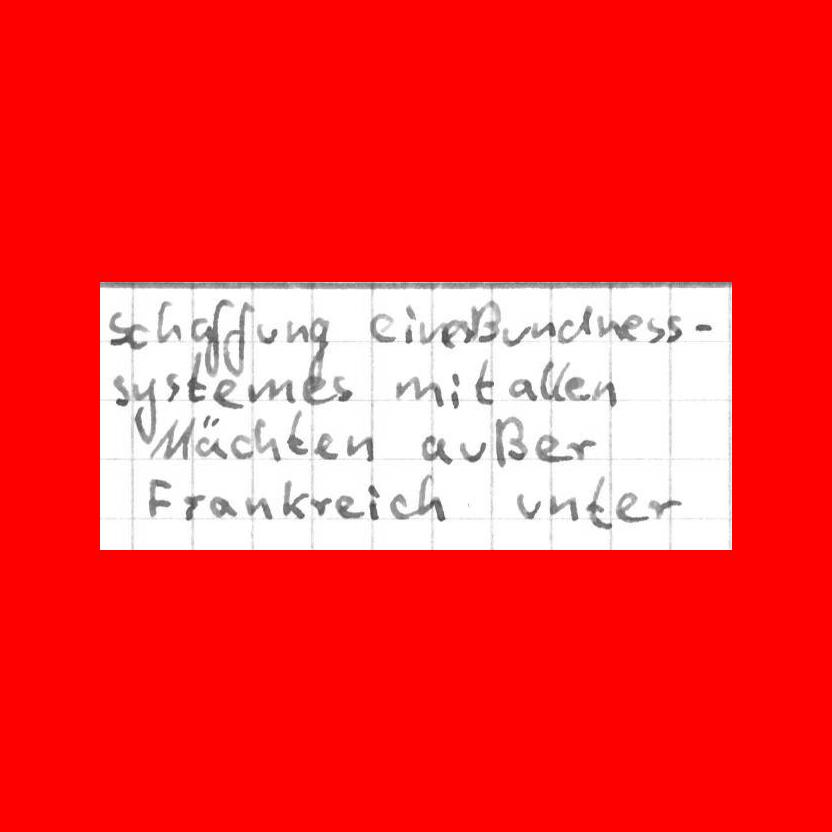Char: (223, 299, 252, 376), (148, 414, 195, 461), (492, 414, 529, 470), (130, 376, 159, 447), (391, 375, 445, 409), (306, 314, 332, 384), (556, 300, 595, 346), (204, 298, 226, 379), (193, 413, 227, 462), (585, 475, 614, 530), (469, 299, 502, 346), (154, 296, 186, 343), (415, 472, 445, 521), (246, 376, 296, 405), (252, 417, 283, 462), (473, 358, 499, 407), (146, 475, 174, 520), (279, 478, 309, 520), (187, 351, 209, 405), (548, 491, 582, 524), (615, 490, 648, 524), (534, 432, 568, 464), (285, 409, 308, 455), (210, 377, 243, 409), (368, 311, 398, 346), (420, 434, 455, 464), (299, 375, 333, 405), (589, 377, 620, 408), (343, 433, 375, 463), (645, 496, 682, 521), (562, 436, 597, 462), (515, 489, 543, 520), (106, 308, 128, 347), (334, 494, 366, 520), (536, 358, 555, 401), (596, 313, 623, 343), (501, 320, 530, 347), (506, 378, 538, 402), (208, 495, 239, 519), (246, 496, 276, 520), (402, 303, 419, 345), (553, 361, 570, 403), (563, 375, 589, 402), (313, 433, 339, 460), (441, 314, 461, 349), (388, 492, 412, 521), (181, 492, 204, 522), (644, 314, 666, 345), (285, 317, 309, 345), (459, 440, 488, 463), (331, 374, 353, 404), (531, 317, 558, 341), (367, 482, 383, 522), (664, 314, 686, 343), (419, 317, 440, 347), (228, 433, 253, 458), (308, 494, 333, 519), (112, 373, 130, 407), (256, 320, 278, 347), (163, 373, 181, 404), (128, 320, 148, 347), (623, 311, 641, 341), (448, 370, 461, 410), (189, 316, 208, 341), (692, 317, 717, 335)
